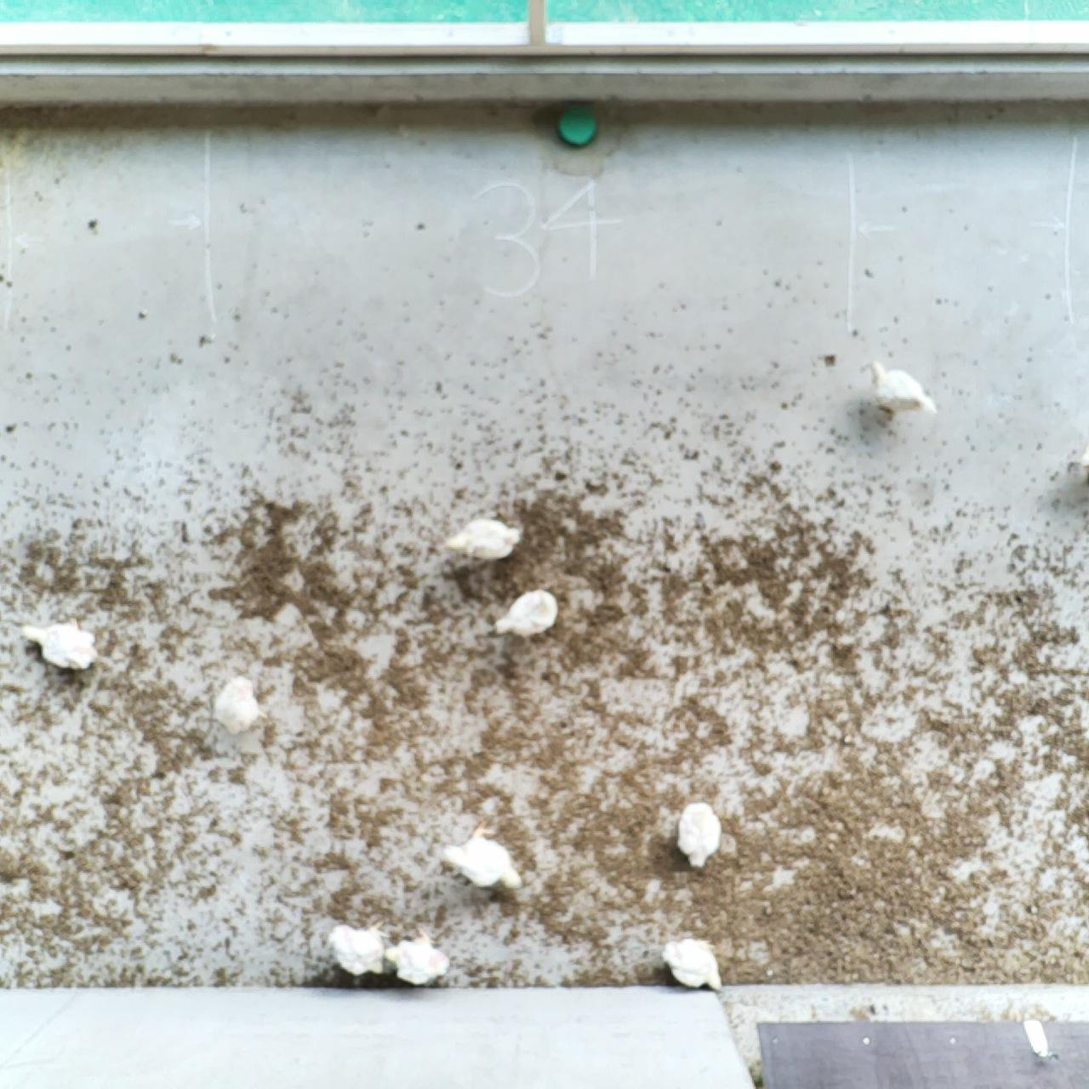chicken: (437, 816, 527, 892), (863, 355, 943, 423), (21, 614, 102, 672), (384, 923, 452, 987), (660, 932, 727, 994), (490, 584, 560, 643), (441, 515, 524, 564), (326, 917, 391, 979), (212, 669, 272, 736), (673, 800, 724, 871)
